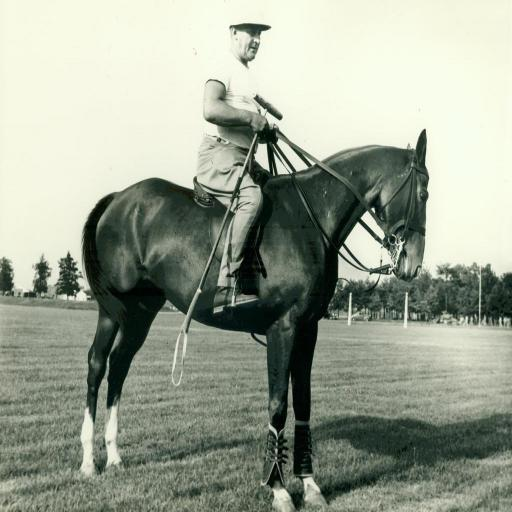horse: (78, 128, 431, 512)
